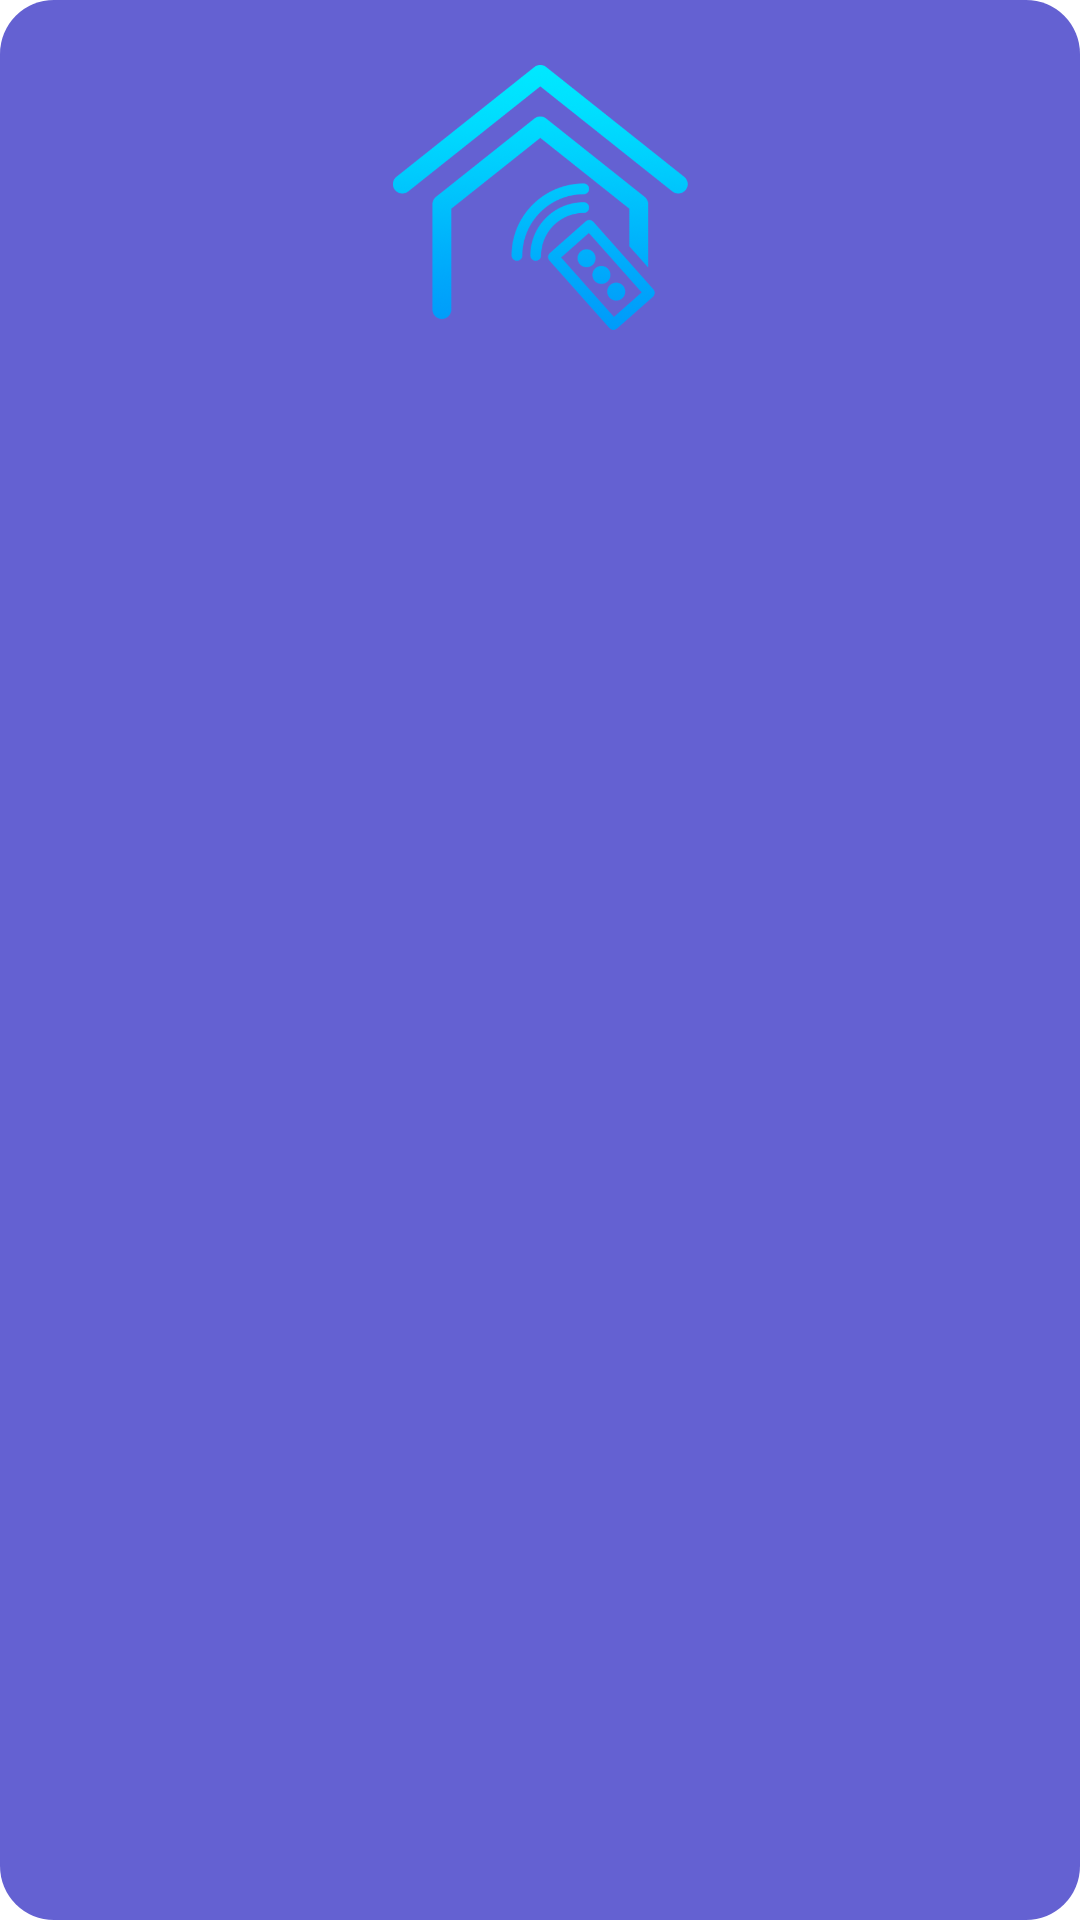

Named icons in this screenshot (1080px x 1920px) and their bounding boxes, (x1, y1, x2, y2):
Device image: (393, 65, 688, 330)
